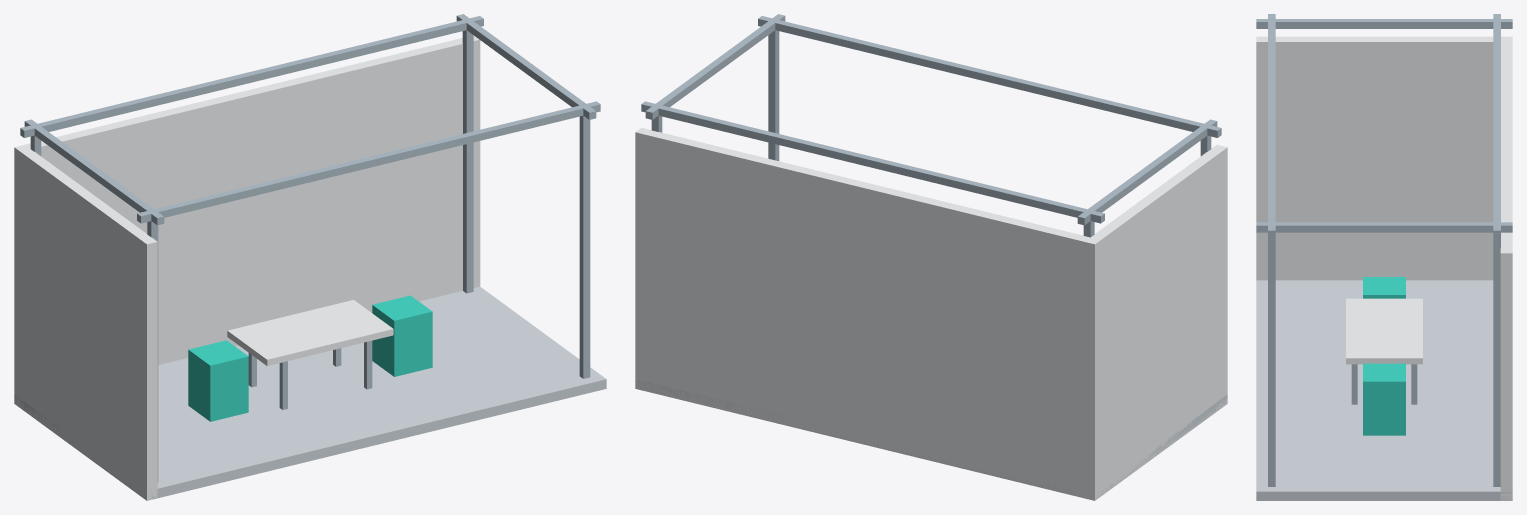
The picture shows the model from 3 angles, left to right: view 1: azimuth 30°, elevation 25°; view 2: azimuth 150°, elevation 25°; view 3: azimuth 270°, elevation 25°; orthographic projection. The views are drawn at different scales.
Parts seen in each view (by area): view 1: Exhibition Booth Concept; view 2: Exhibition Booth Concept; view 3: Exhibition Booth Concept.
Boxes of the visible parts, x1,y1,x2,y2 form: Exhibition Booth Concept: (14, 14, 606, 500); Exhibition Booth Concept: (635, 14, 1227, 500); Exhibition Booth Concept: (1256, 14, 1512, 500).
Size of the model in its own units: 6 by 3.49 by 3.
